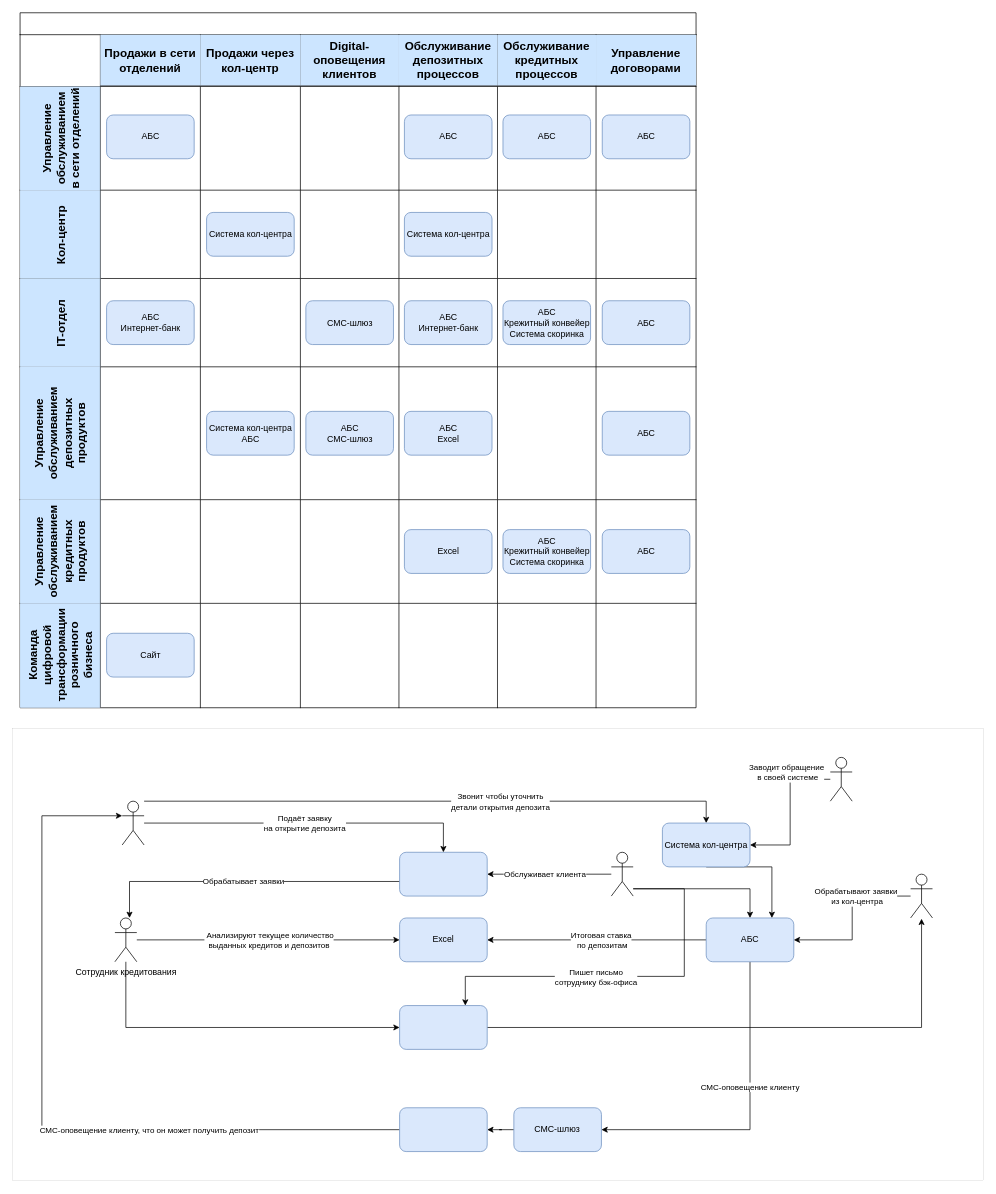
Some shapes in this 996 by 1194 pixel diagram are drawn without their labels. Here are the shapes that lost their labels. From the top down, the box of each, then its label:
(19, 12, 696, 708): Карта IT-ландшафта
(830, 757, 852, 801): Сотрудник кол-центра
(121, 800, 144, 845): Клиент
(399, 852, 487, 896): Отделение банка
(611, 852, 633, 896): Сотрудник фронт-офиса
(910, 873, 933, 918): Сотрудники бэк-офиса
(399, 1005, 487, 1049): Email
(399, 1107, 487, 1152): Телеком-оператор
